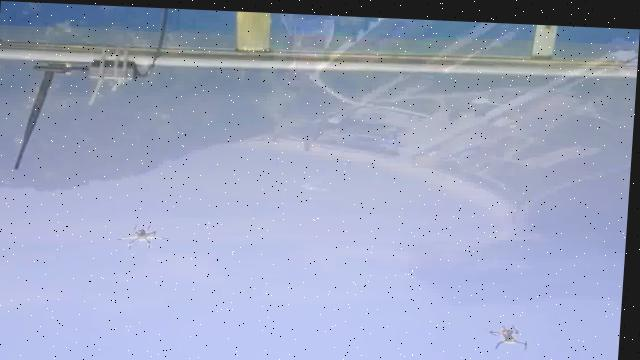drone: (489, 317, 534, 348), (122, 220, 170, 249)
